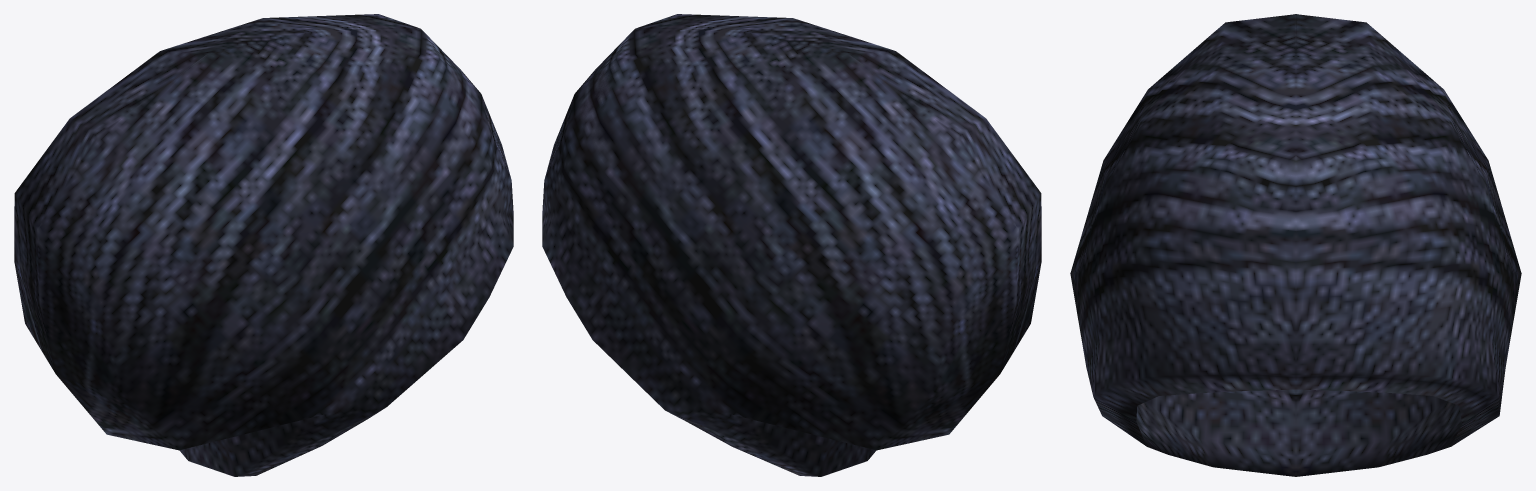
The model's file is hat_0400044.FBX.
3 renders of one model, left to right at view 1: azimuth 30°, elevation 25°; view 2: azimuth 150°, elevation 25°; view 3: azimuth 270°, elevation 25°, orthographic. The views are drawn at different scales.
Parts seen in each view (by area): view 1: hat_0400044; view 2: hat_0400044; view 3: hat_0400044.
Boxes of the visible parts, x1,y1,x2,y2 form: hat_0400044: [14, 14, 513, 476]; hat_0400044: [542, 14, 1041, 476]; hat_0400044: [1070, 14, 1521, 476].
Size of the model in its own units: 32.97 by 28.79 by 25.58.
